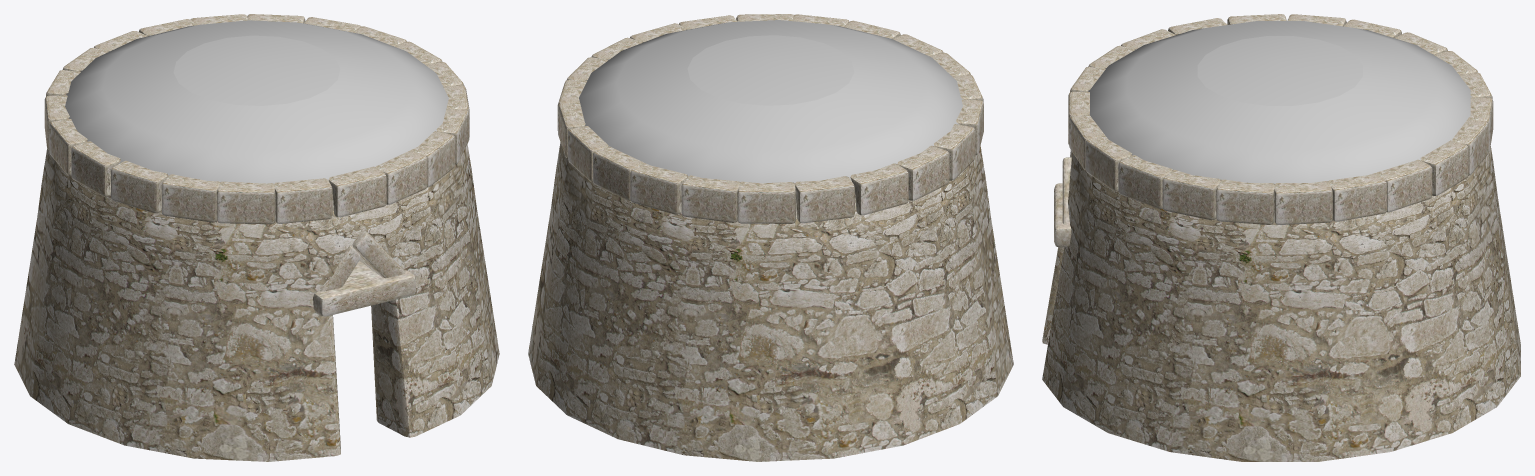
File: Building.fbx
3 views of the same model, side by side, from view 1: azimuth 30°, elevation 25°; view 2: azimuth 150°, elevation 25°; view 3: azimuth 270°, elevation 25° (orthographic).
Visible parts, largest first — view 1: Building; view 2: Building; view 3: Building.
Boxes of the visible parts, x1,y1,x2,y2 form: Building: [14, 14, 499, 461]; Building: [528, 14, 1013, 461]; Building: [1042, 14, 1520, 461].
Bounding box in the file's own units: 22.92 × 15.68 × 22.8.
